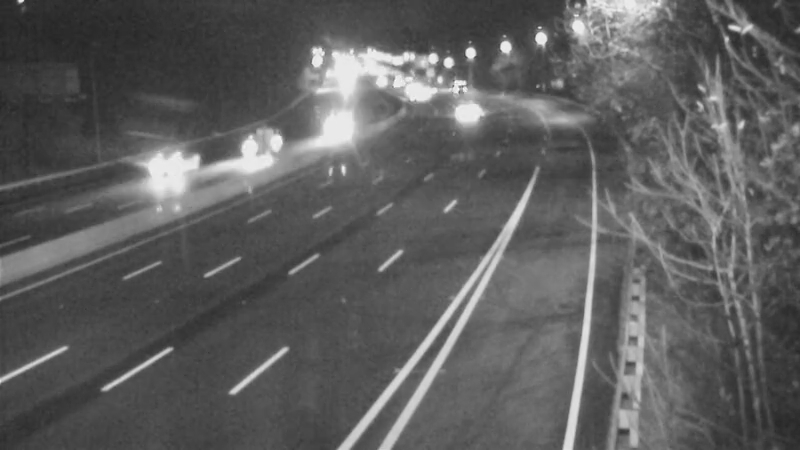vehicle: (131, 130, 211, 210), (437, 58, 487, 108), (440, 90, 490, 140), (240, 118, 290, 168), (313, 102, 363, 152)
